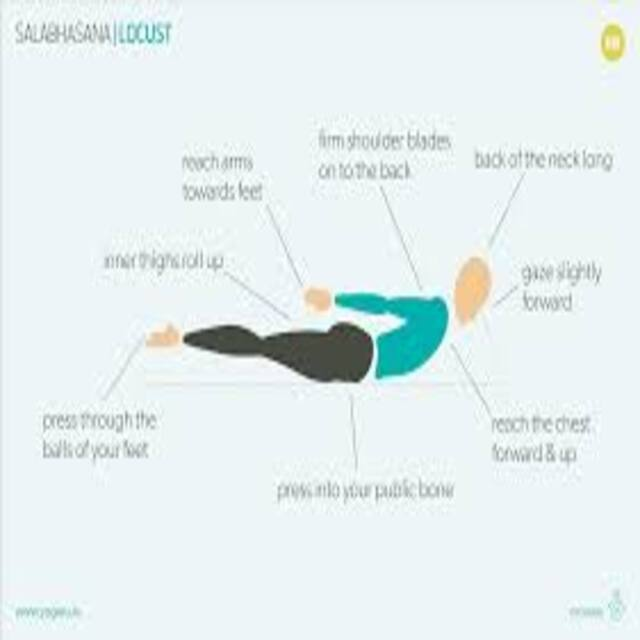Locust_Pose: (143, 256, 491, 386)
